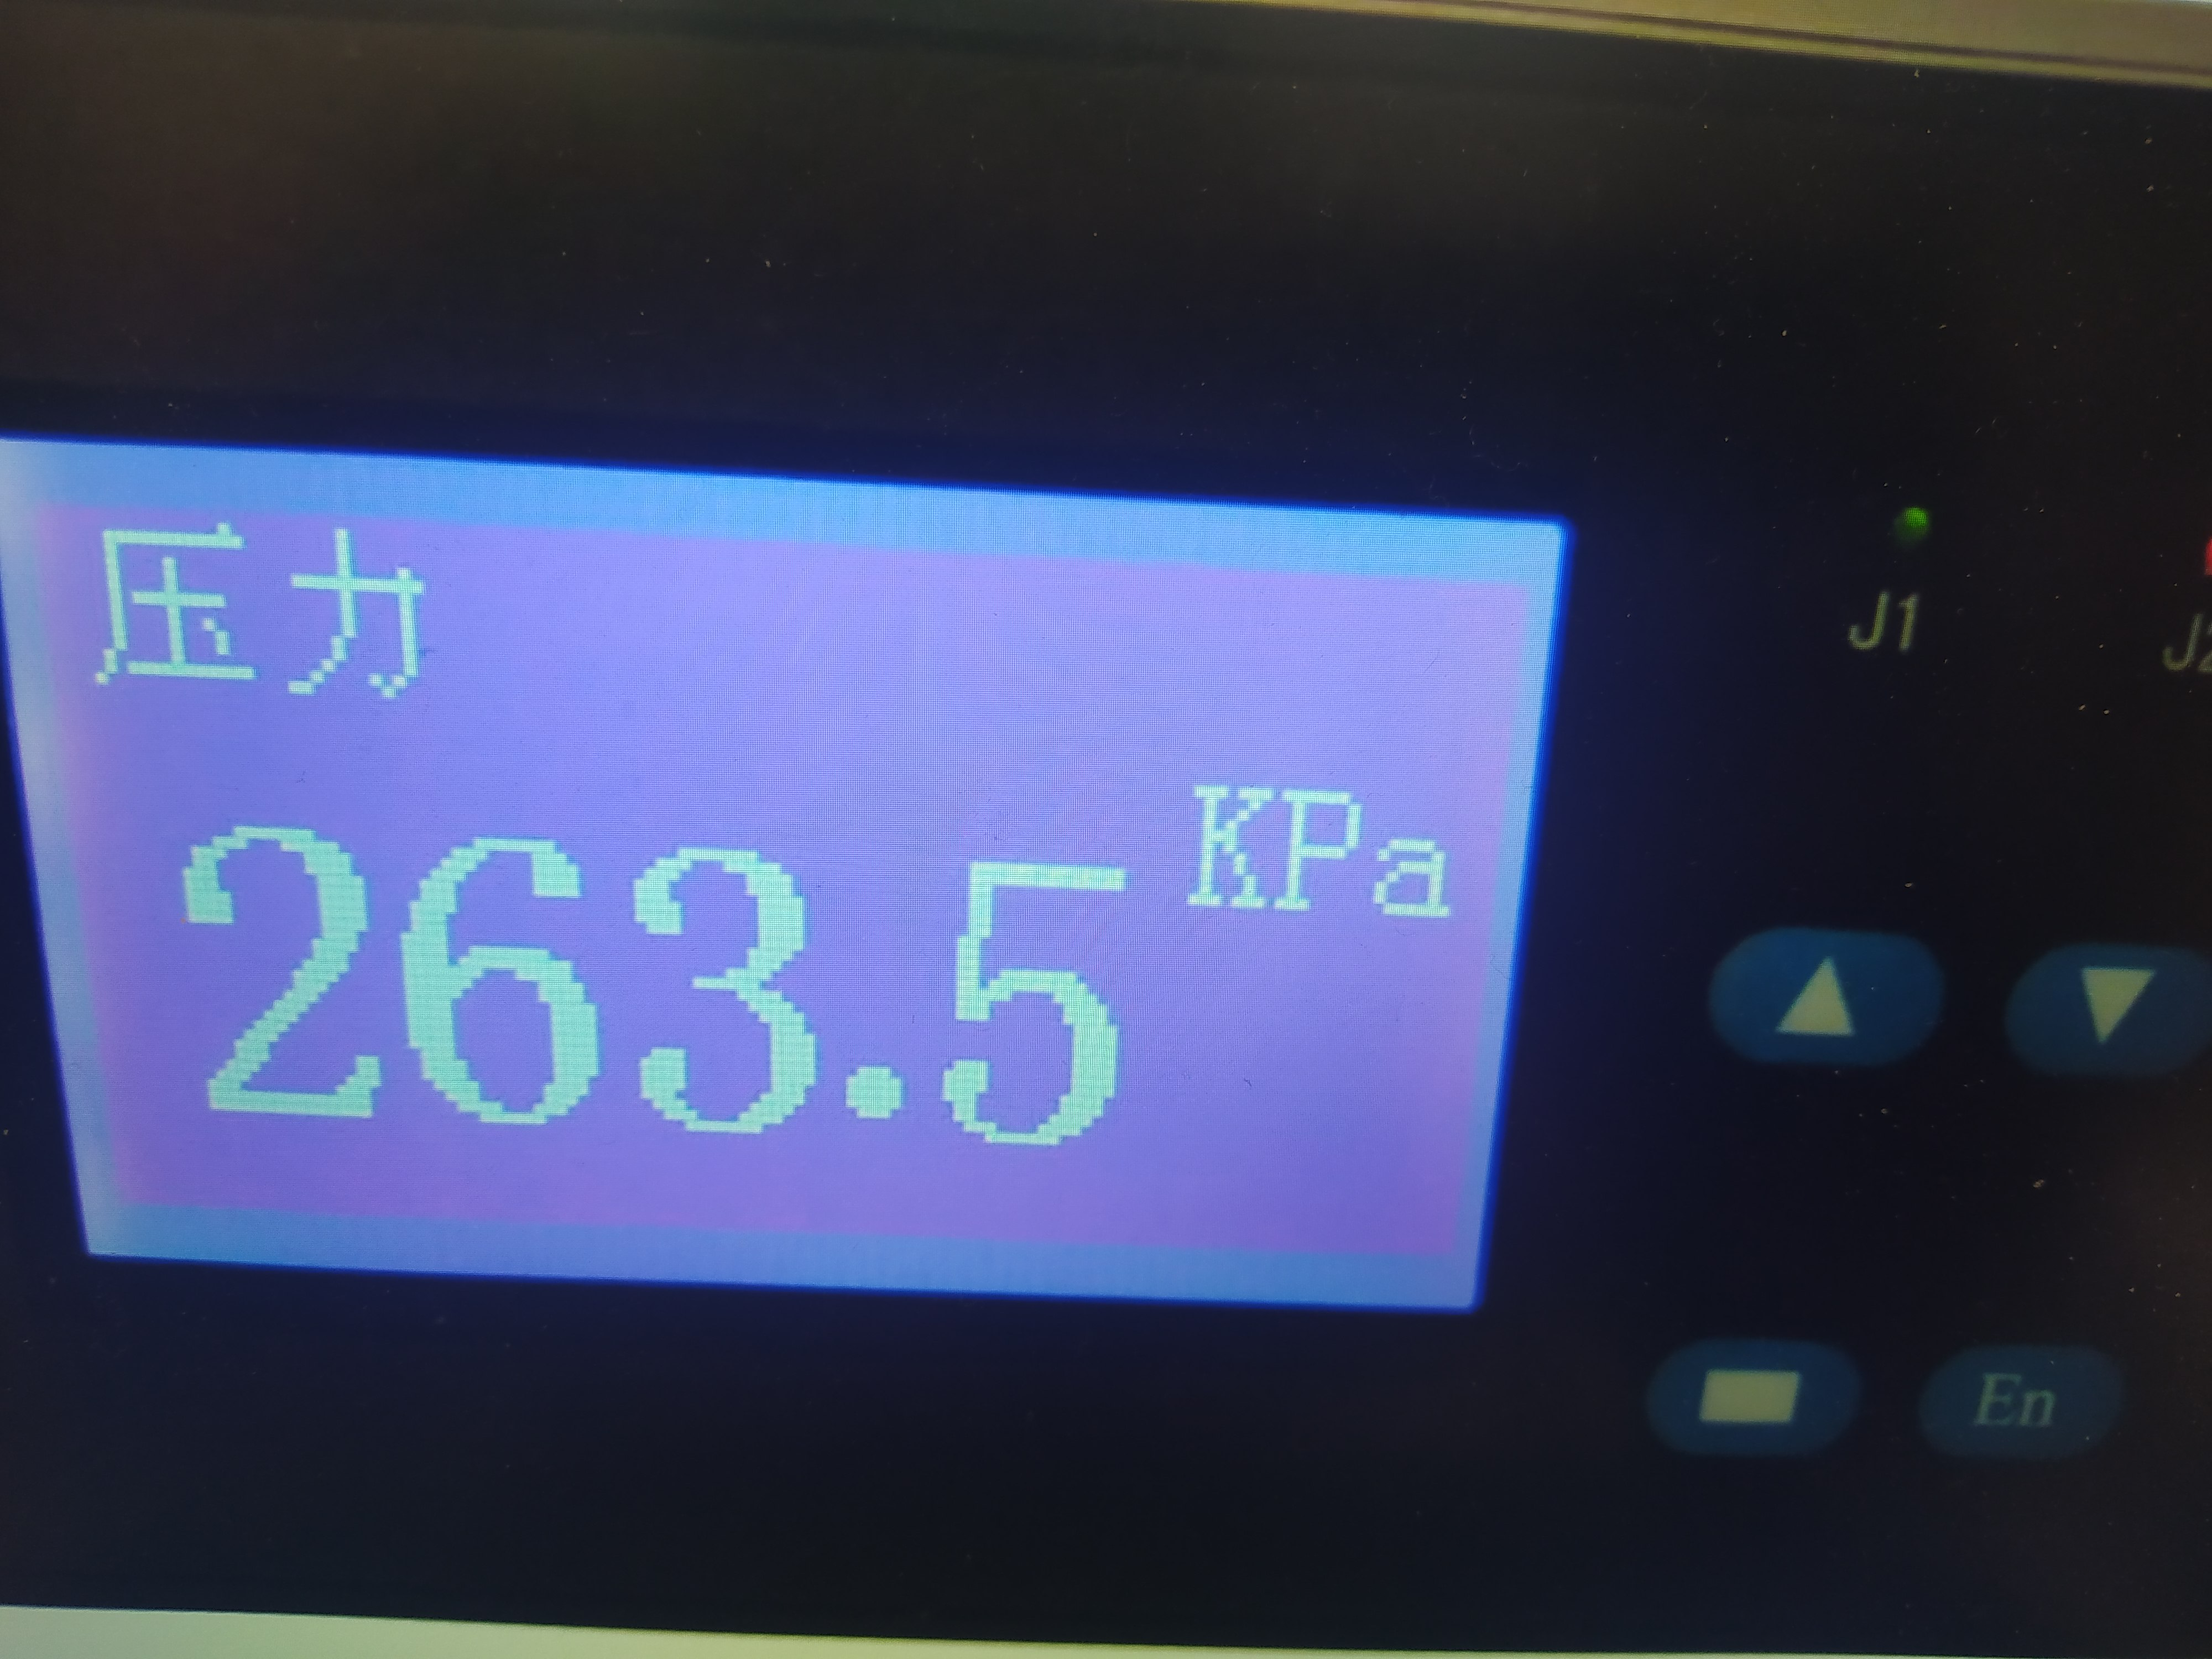.: (827, 814, 930, 1157)
2: (185, 812, 399, 1133)
3: (622, 812, 833, 1147)
5: (934, 816, 1146, 1159)
6: (397, 812, 620, 1140)
